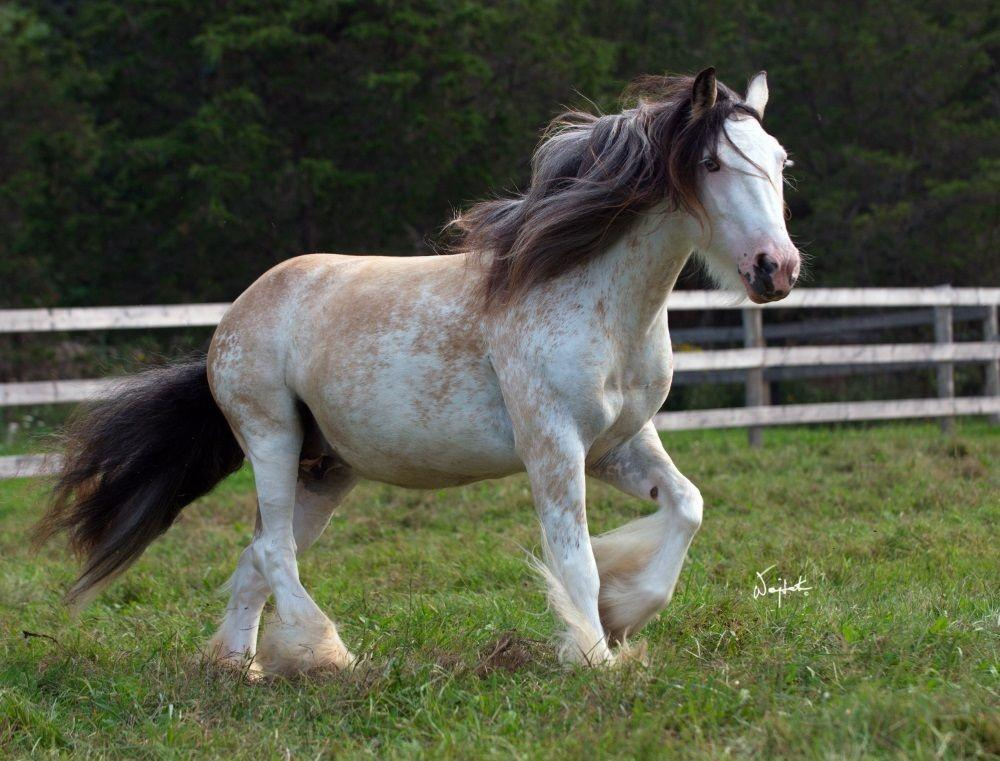horse: (24, 64, 804, 685)
